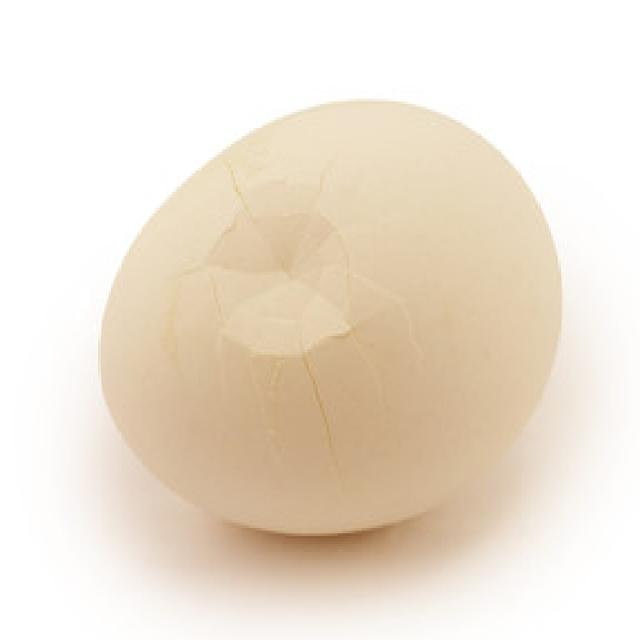Crack: (183, 118, 417, 508)
Egg: (80, 84, 587, 553)
